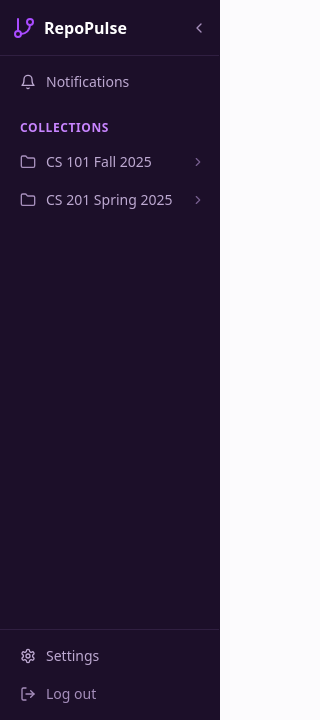
Scenario: AppSidebar collapse — hides the sidebar › hides all sidebar content when collapsed, leaving only the expand arrow
The width and height of the screenshot is (320, 720).
Expected: the text "CS 101 Fall 2025" is shown, [46, 152, 152, 172]
Click the button titled "Collapse sidebar" at (199, 28), box [191, 20, 207, 36]
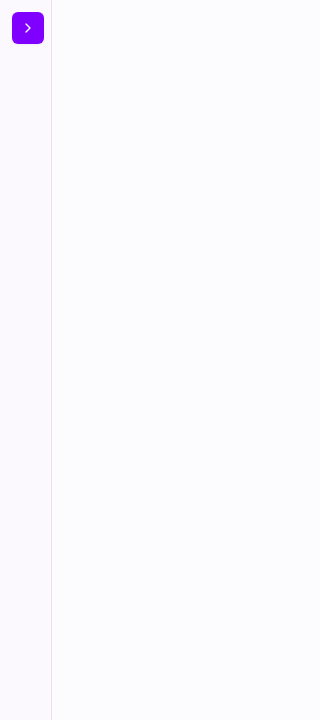
Expected: the button titled "Expand sidebar" is shown, [12, 12, 44, 44]
Expected: the link "RepoPulse" is gone
Expected: the button "CS 101 Fall 2025" is gone
